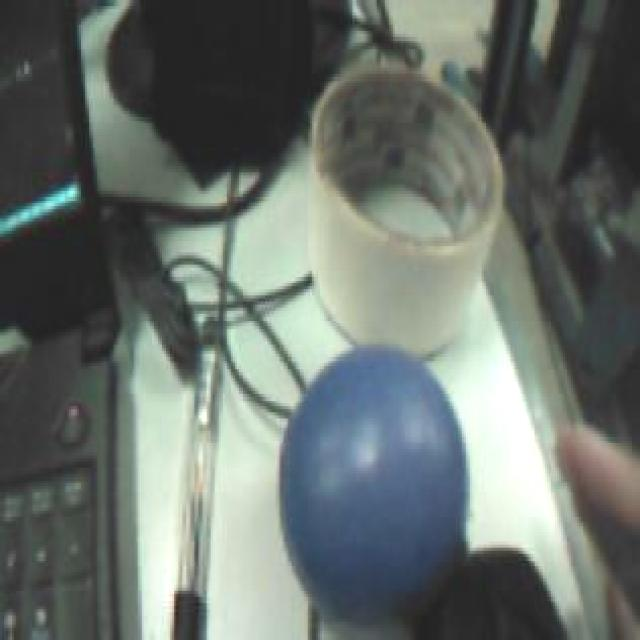BallPurple: (281, 343, 471, 623)
